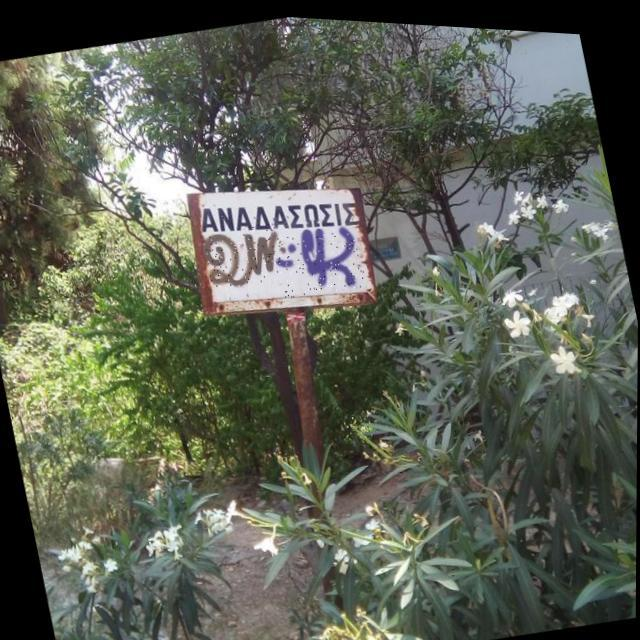-: (273, 216, 367, 298), (201, 214, 289, 292)
